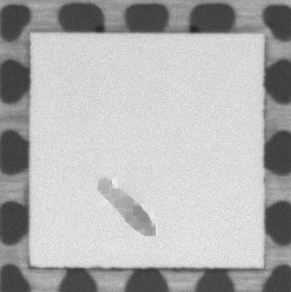DIE_INK: (91, 172, 160, 242)
